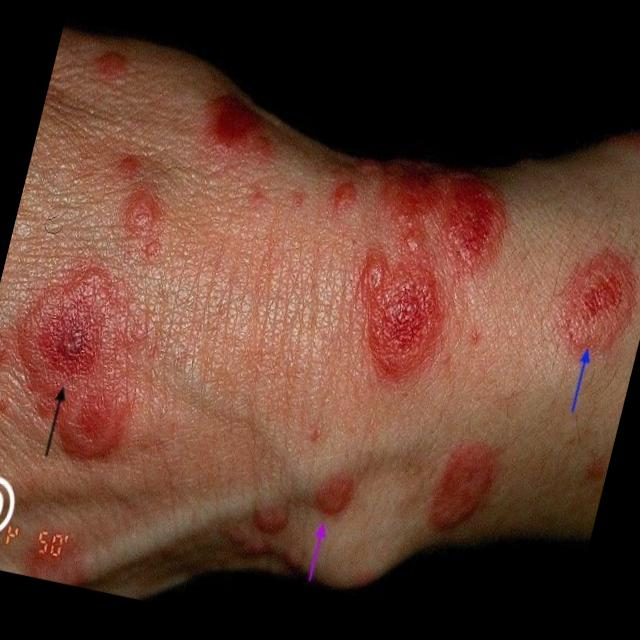Erythema multiforme -EM-: (302, 154, 526, 431), (2, 152, 168, 400), (538, 222, 640, 361), (391, 443, 501, 540)
